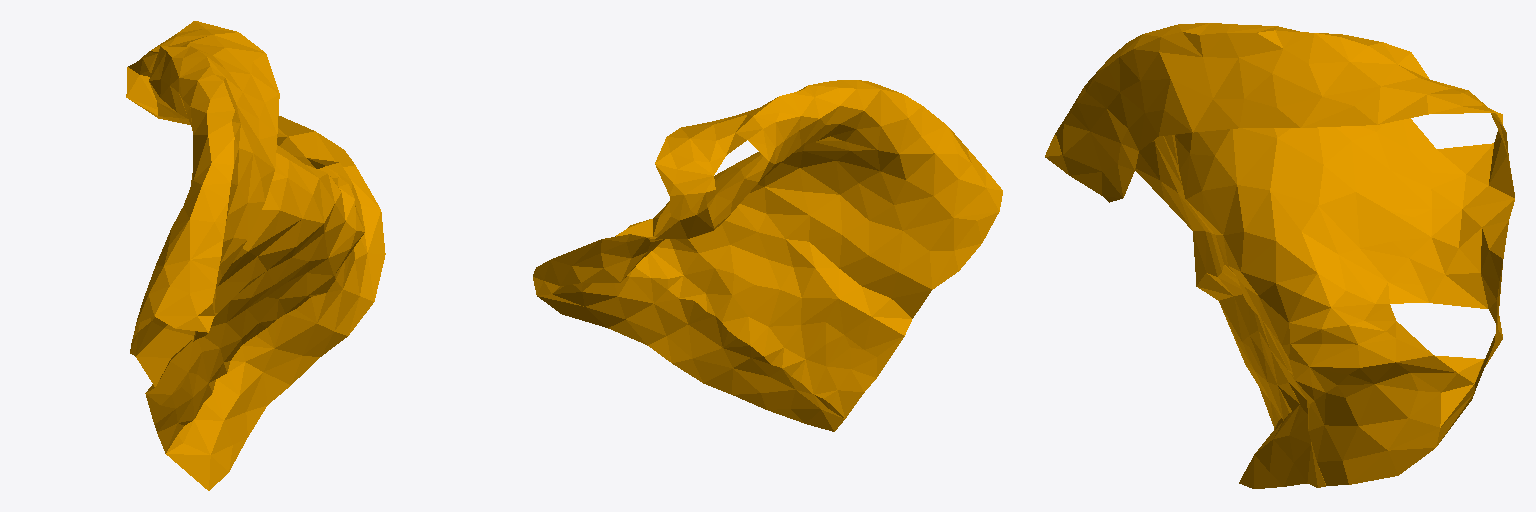
URDF robot description (init):
<?xml version='1.0' encoding='utf-8'?>
<robot name="init">
<link name="link_0"><inertial><mass value="1.0" /><origin rpy="0 0 0" xyz="0.000000 0.000000 0.000000" /><inertia ixx="1.0" ixy="0.0" ixz="0.0" iyy="1.0" iyz="0.0" izz="1.0" /></inertial><visual><origin rpy="0 0 0" xyz="0.000000 0.000000 0.000000" /><geometry><mesh filename="./clothHuman/cloth/1841.obj" /></geometry></visual><collision><origin rpy="0 0 0" xyz="0.000000 0.000000 0.000000" /><geometry><mesh filename="./clothHuman/cloth/1841.obj" /></geometry></collision></link></robot>

--- What the picture shows (computed from the rendered views, not written in the file) ---
3 views of the same robot in one strip: view 1: azimuth 30°, elevation 25°; view 2: azimuth 150°, elevation 25°; view 3: azimuth 270°, elevation 25° (orthographic).
Model init with 1 links and 0 joints (none), rooted at link_0, posed all joints at 0.
Visible links, largest first — view 1: link_0; view 2: link_0; view 3: link_0.
Link boxes in pixels (bbox=[...]): link_0: bbox=[126, 21, 385, 490]; link_0: bbox=[533, 80, 1002, 431]; link_0: bbox=[1045, 23, 1514, 488].
Bounding box of the posed robot: 3.43 × 3.1 × 3.4 m (x, y, z).
Meshes: 1 distinct files referenced, 1 mesh visuals loaded (1 OBJ).